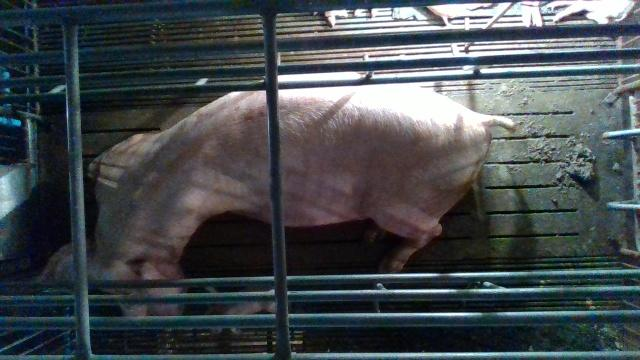piglet: (205, 283, 289, 334)
sow-sit: (36, 69, 517, 317)
